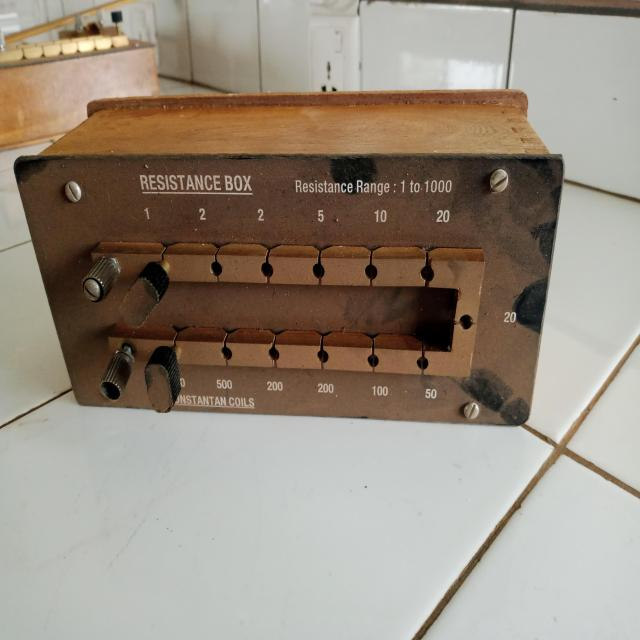Pinned Resistance Box: (9, 62, 570, 438)
